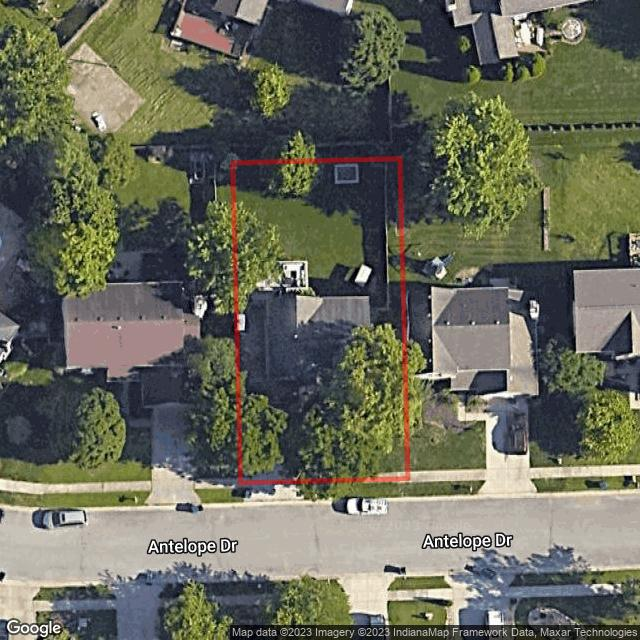Driveway: (268, 381, 316, 478)
Extra Driveway: (243, 485, 304, 502)
Extra Lawn: (349, 483, 410, 498)
House: (266, 295, 371, 378)
Other: (256, 260, 309, 292), (334, 164, 358, 184), (354, 264, 372, 286)
Sidewalk: (243, 471, 284, 481), (378, 472, 405, 477)
